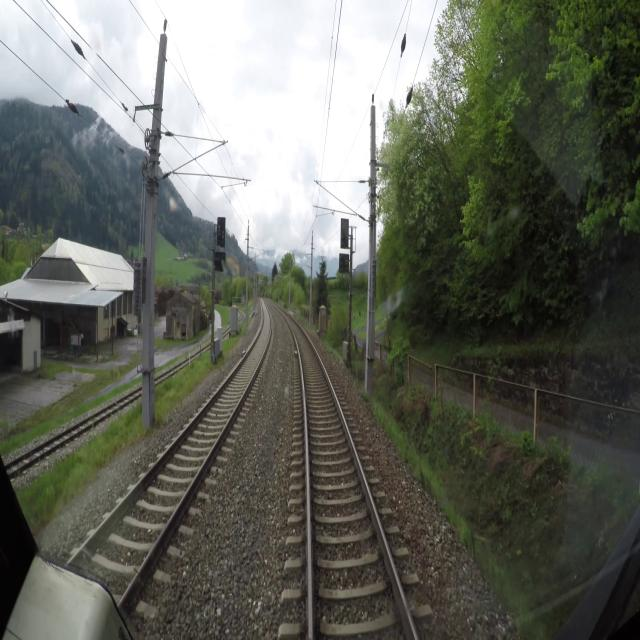rail-track: (77, 300, 270, 597), (286, 315, 416, 639), (6, 405, 114, 469)
